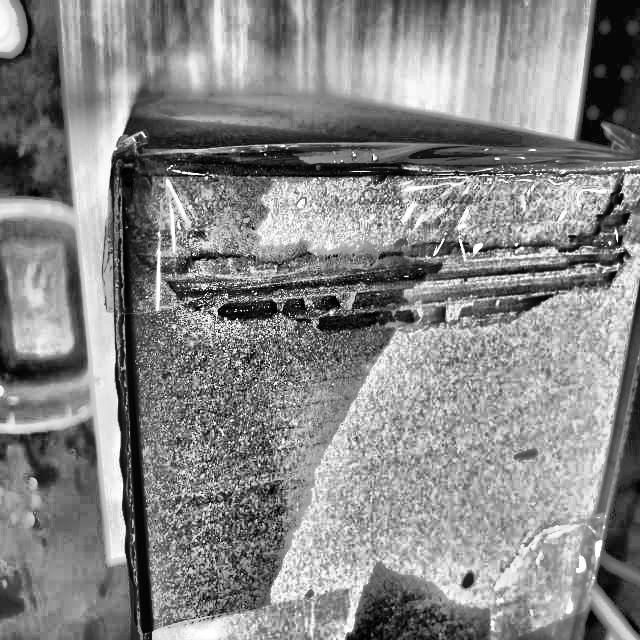box: (89, 72, 640, 639)
wet: (98, 155, 428, 619)
